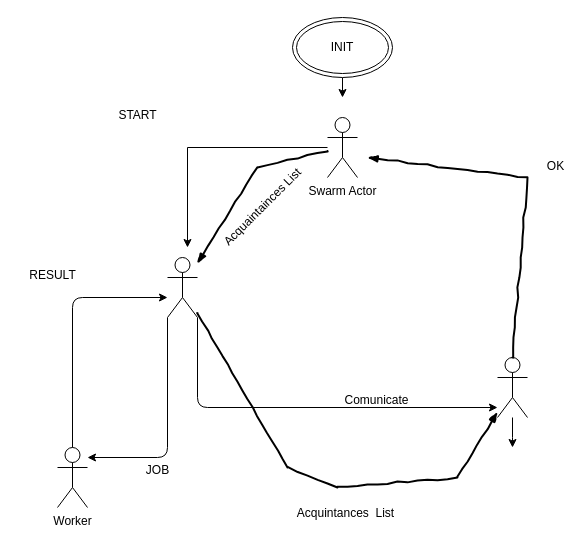
This 587x546 diagram has some shape labels left out. The box of each missing label's shape, as (x1, y1, x2, y2) in pixels:
Particle Actor: (166, 256, 198, 318)
Slave Actor: (496, 356, 528, 418)
